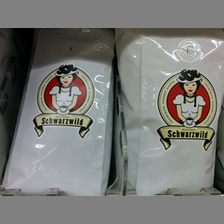coffee: (2, 29, 115, 194), (113, 29, 224, 196)
